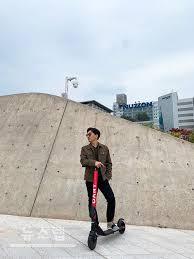kick_wheel: (88, 233, 98, 249), (119, 219, 127, 232)
